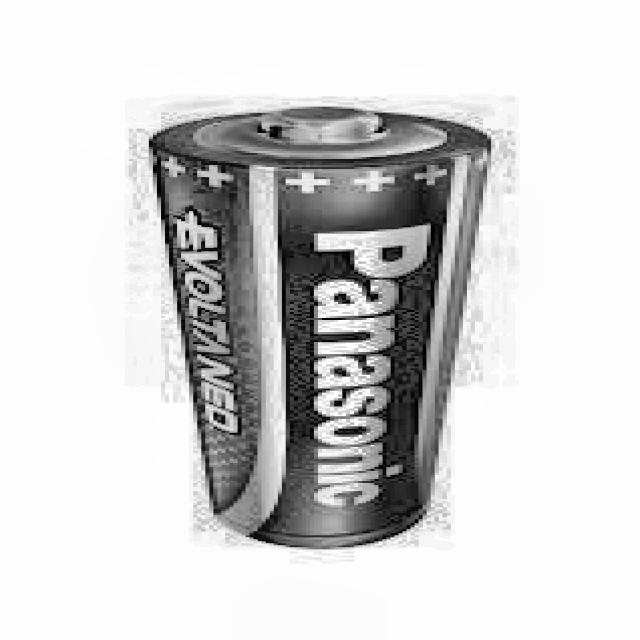drycell: (143, 99, 512, 548)
